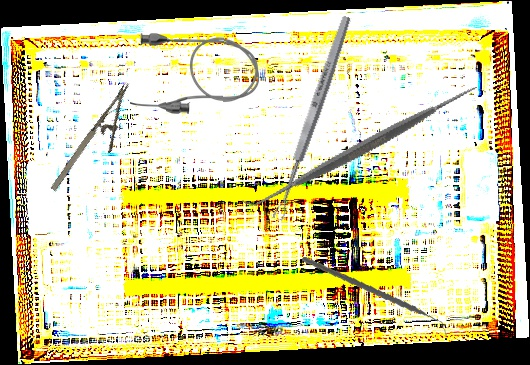Cannula: (130, 32, 260, 116)
Chopper: (301, 241, 448, 352)
Needle Holder: (47, 81, 151, 204)
Spatula Surgical: (241, 21, 487, 272)
Surgical Spoon: (270, 14, 354, 222)
